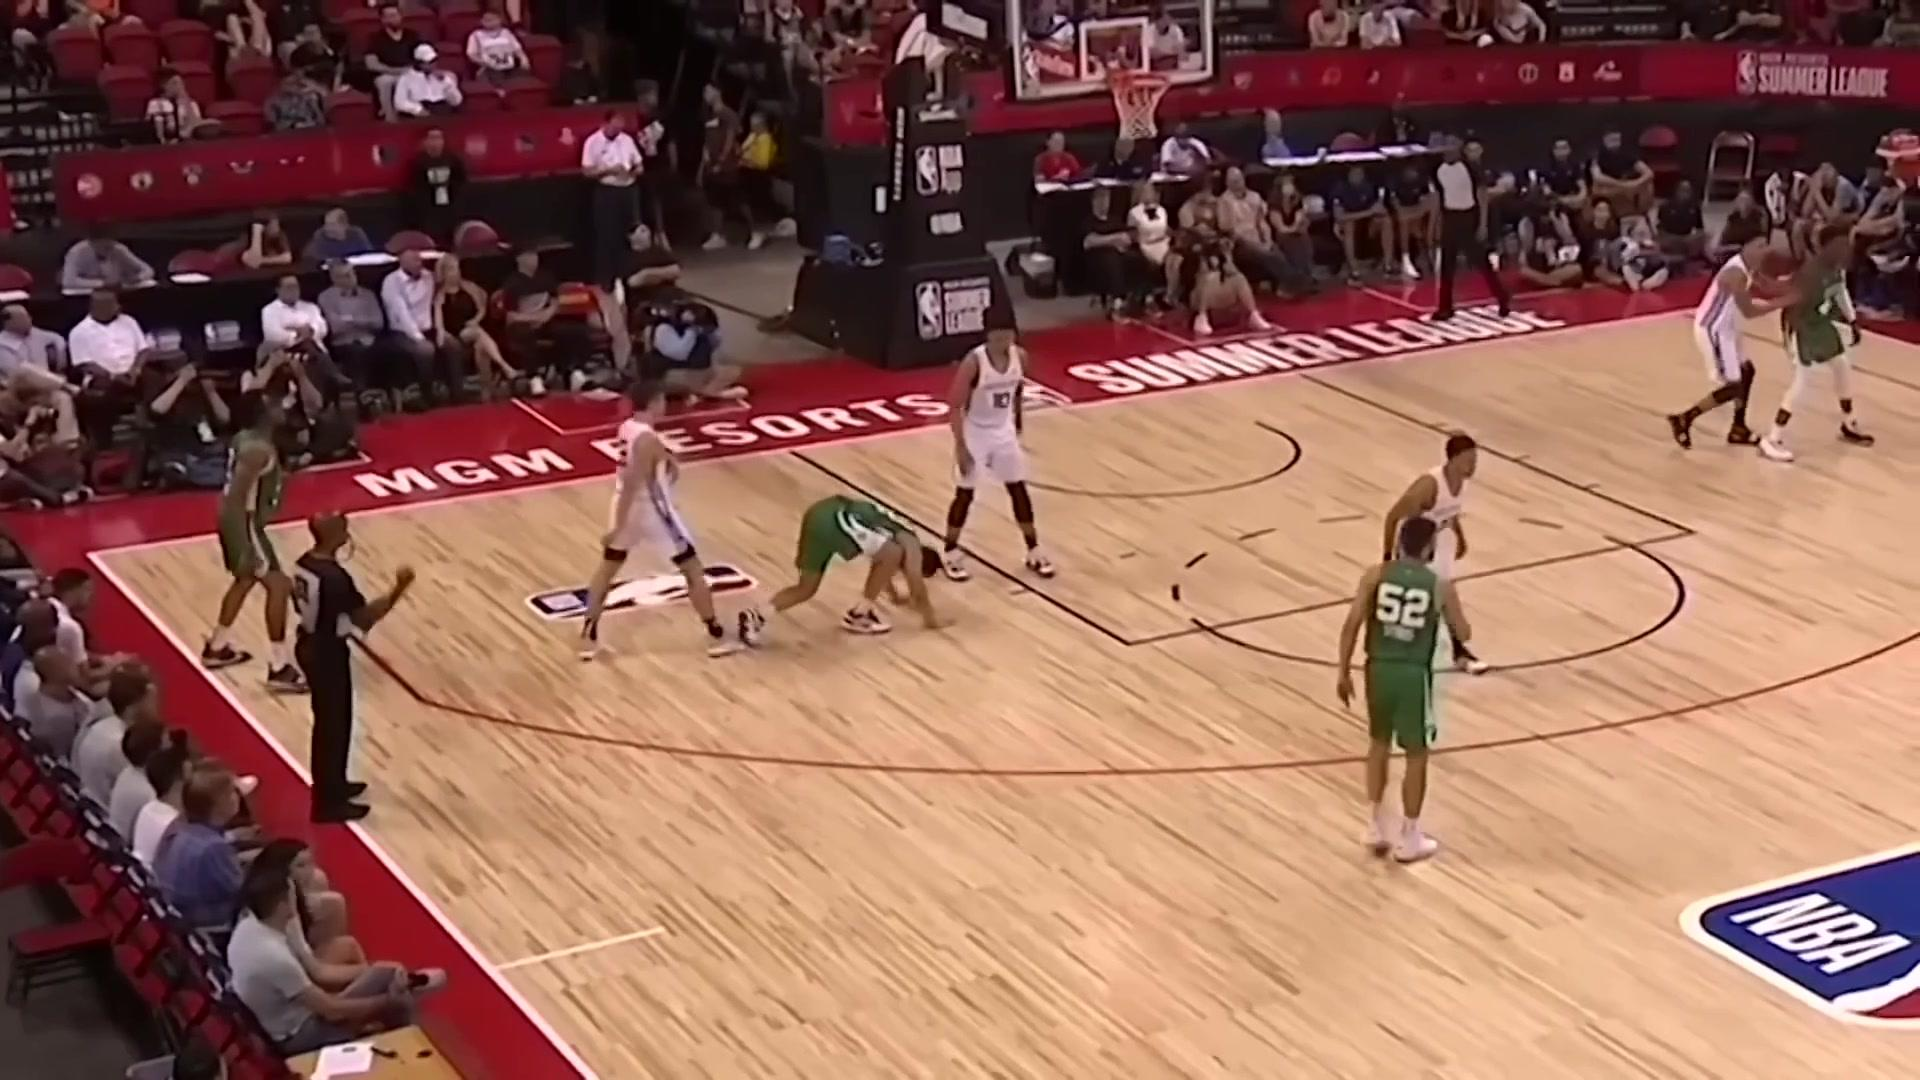no_foul: (571, 353, 993, 671)
